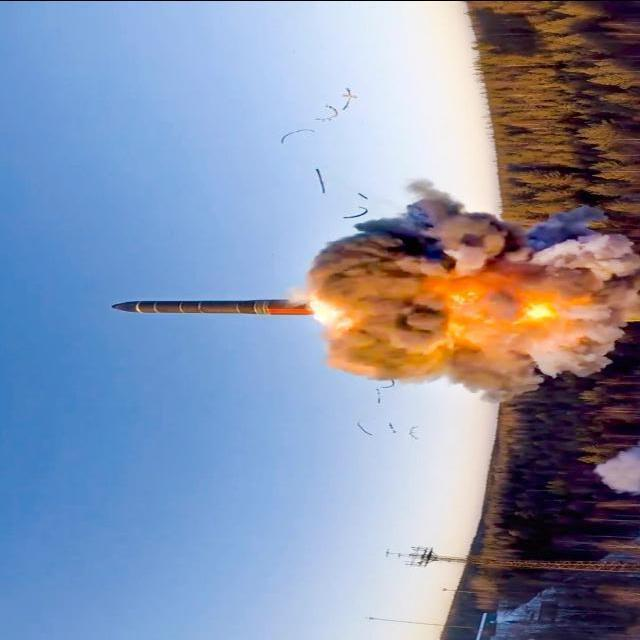missile: (91, 290, 326, 329)
